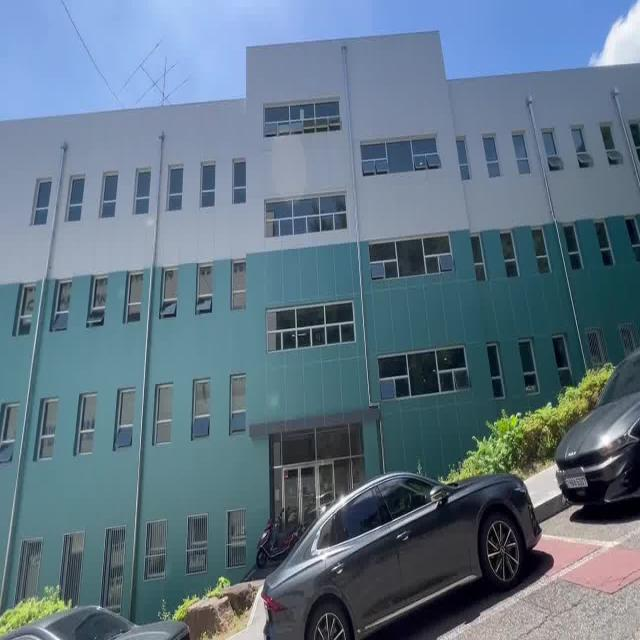building: (20, 25, 498, 480)
